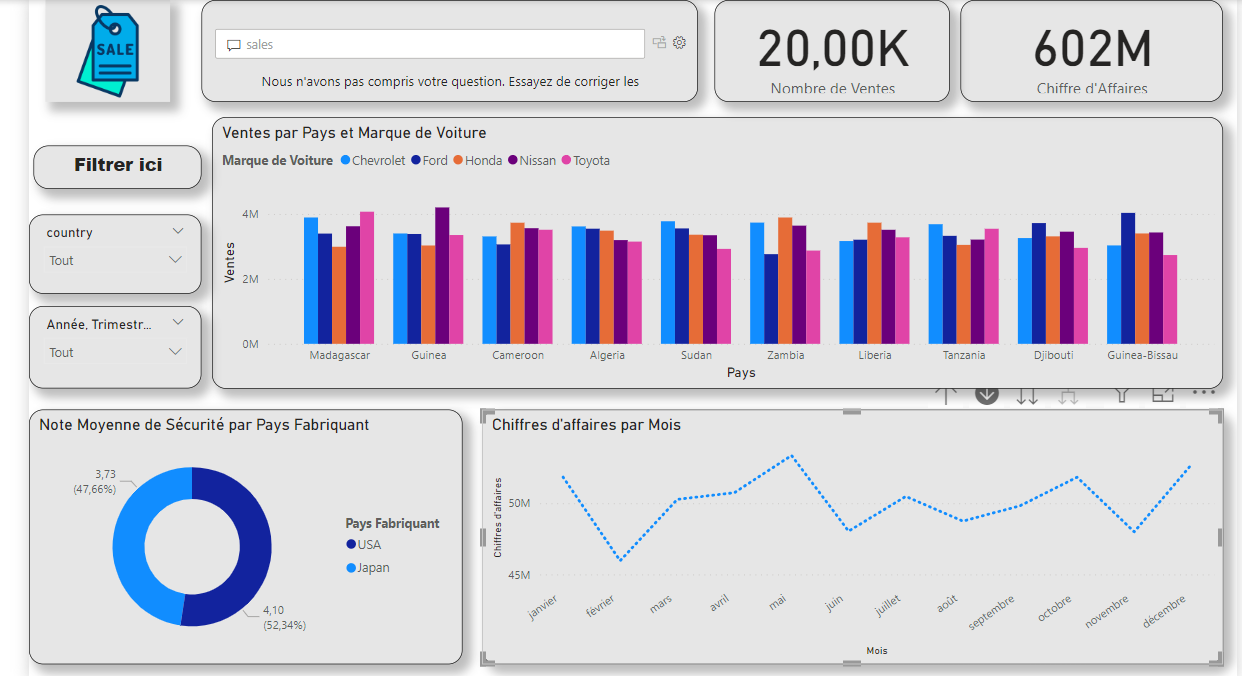

This screenshot's page, from the dashboard's own definition file:
{"tool":"powerbi","page":{"name":"Page 1","canvas":[1280,720],"ordinal":0},"visuals":[{"type":"lineChart","fields":{"Y":["Sum(amine.sale_price)"],"Category":["amine.date.Variation.Hiérarchie de dates.Année","amine.date.Variation.Hiérarchie de dates.Trimestre","amine.date.Variation.Hiérarchie de dates.Mois","amine.date.Variation.Hiérarchie de dates.Jour"]},"box":[480,433.9,785.2,270.2],"z":0},{"type":"donutChart","fields":{"Category":["amine.origin_country"],"Y":["Avg(amine.safety_ratings)"]},"box":[0,433.9,459.3,270.2],"z":1000},{"type":"qnaVisual","box":[182.8,0,526.1,108.1],"z":2000},{"type":"clusteredColumnChart","fields":{"Y":["Sum(amine.sale_price)"],"Category":["amine.country"],"Series":["amine.car_make"]},"box":[193.9,124,1071.3,287.7],"z":3000},{"type":"card","fields":{"Values":["Sum(amine.sale_price)"]},"box":[986.5,0,277.8,107.7],"z":4000},{"type":"image","box":[17.5,0,131.9,108.1],"z":4001},{"type":"card","fields":{"Values":["CountNonNull(amine.sale_price)"]},"box":[726.4,0,249.5,108.1],"z":4002},{"type":"slicer","fields":{"Values":["amine.country"]},"box":[0,227.3,182.8,84.2],"z":4003},{"type":"slicer","fields":{"Values":["amine.date.Variation.Hiérarchie de dates.Année","amine.date.Variation.Hiérarchie de dates.Trimestre","amine.date.Variation.Hiérarchie de dates.Mois","amine.date.Variation.Hiérarchie de dates.Jour"]},"box":[0,324.2,182.8,87.4],"z":4004},{"type":"textbox","title":"Filtrer ici","box":[4.8,154.2,178,46.1],"z":4005}]}

Visuals, with their boxes in screenshot pixels (x1, y1, x2, y2):
lineChart - Sum(amine.sale_price) x amine.date.Variation.Hiérarchie de dates.Année: bbox=(470, 410, 1224, 669)
donutChart - amine.origin_country x Avg(amine.safety_ratings): bbox=(10, 410, 451, 669)
qnaVisual: bbox=(185, 0, 690, 97)
clusteredColumnChart - Sum(amine.sale_price) x amine.country: bbox=(196, 113, 1224, 389)
card - Sum(amine.sale_price): bbox=(957, 0, 1223, 97)
image: bbox=(26, 0, 153, 97)
card - CountNonNull(amine.sale_price): bbox=(707, 0, 946, 97)
slicer - amine.country: bbox=(10, 212, 185, 293)
slicer - amine.date.Variation.Hiérarchie de dates.Année x amine.date.Variation.Hiérarchie de dates.Trimestre: bbox=(10, 305, 185, 389)
"Filtrer ici" textbox: bbox=(14, 142, 185, 186)
